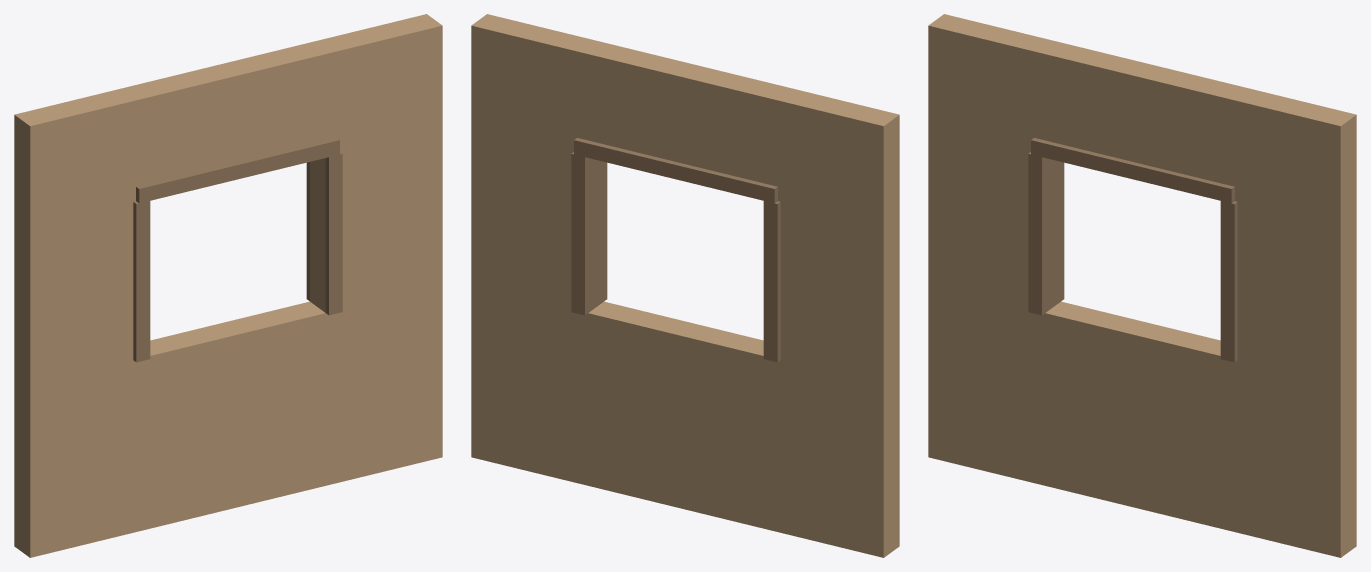
Rendered from window_wall.glb.
The picture shows the model from 3 angles, left to right: view 1: azimuth 30°, elevation 25°; view 2: azimuth 150°, elevation 25°; view 3: azimuth 330°, elevation 25°; orthographic projection.
Parts seen in each view (by area): view 1: window_wall; view 2: window_wall; view 3: window_wall.
Boxes of the visible parts, x1,y1,x2,y2 form: window_wall: (14,14,442,557); window_wall: (471,14,899,557); window_wall: (928,14,1356,557).
Size of the model in its own units: 3 by 3 by 0.28.
